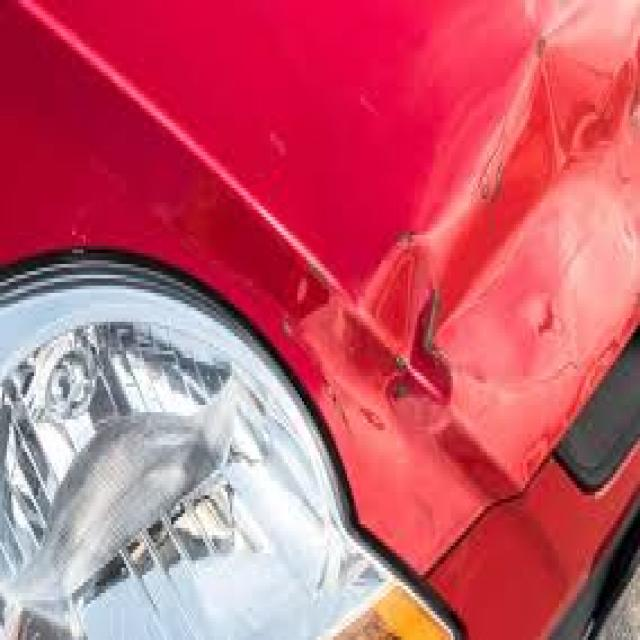minor: (276, 181, 613, 507)
